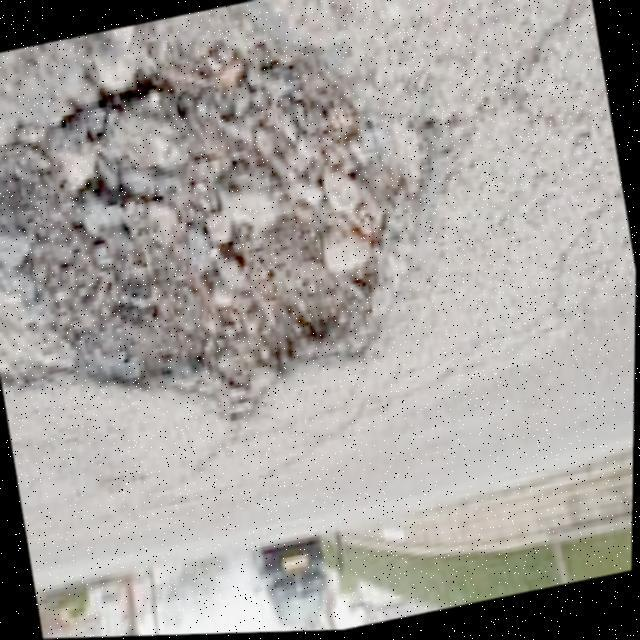pothole: (0, 5, 433, 476)
